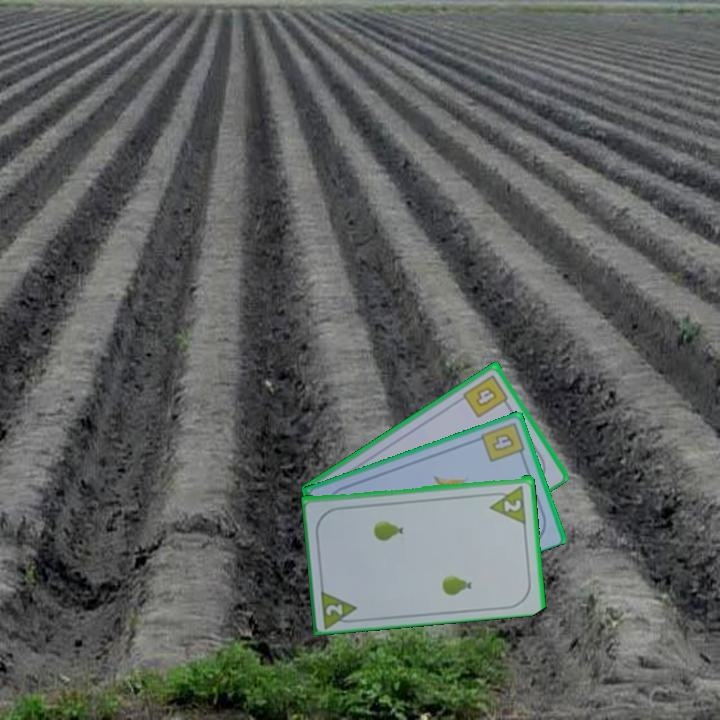2p: (317, 585, 362, 629), (500, 494, 524, 514)
4b: (460, 370, 513, 420), (477, 418, 528, 465)
